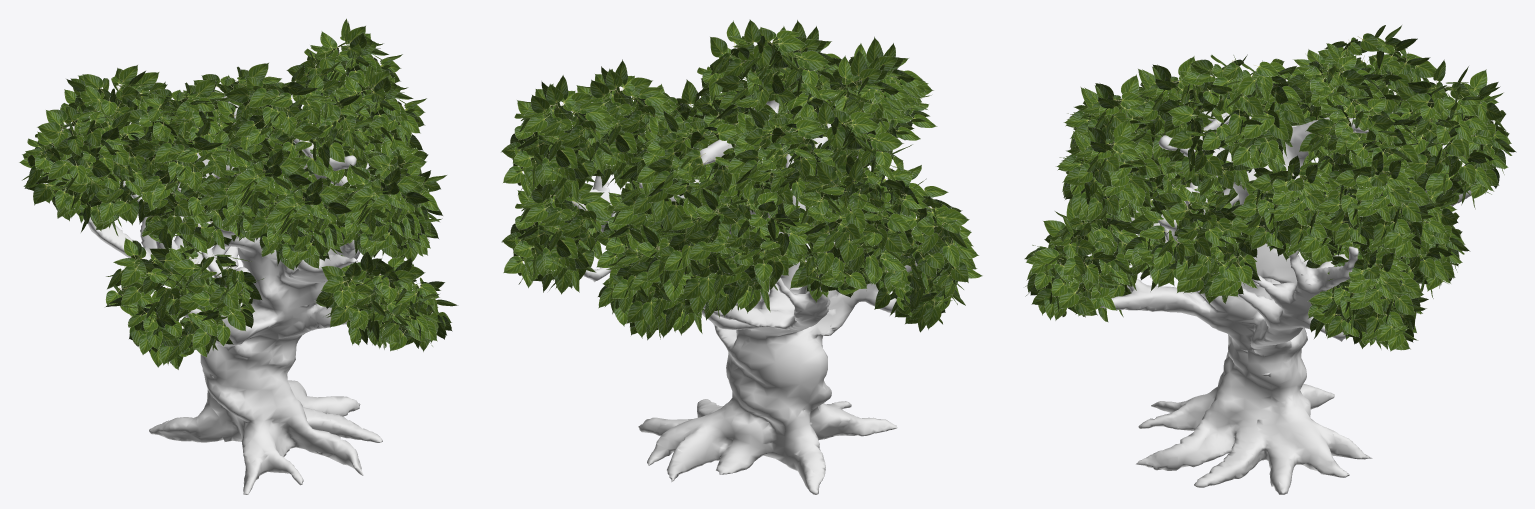
File: BigTree.fbx
3 renders of one model, left to right at view 1: azimuth 30°, elevation 25°; view 2: azimuth 150°, elevation 25°; view 3: azimuth 270°, elevation 25°, orthographic. The views are drawn at different scales.
Visible parts, largest first — view 1: banyanLeaf.706, Tree; view 2: banyanLeaf.706, Tree; view 3: banyanLeaf.706, Tree.
Boxes of the visible parts, x1,y1,x2,y2 form: banyanLeaf.706: (19,18,458,369); Tree: (60,96,382,494); banyanLeaf.706: (501,19,982,340); Tree: (572,100,917,494); banyanLeaf.706: (1024,25,1516,351); Tree: (1100,111,1471,494).
Bounding box in the file's own units: 831 × 817 × 911.
